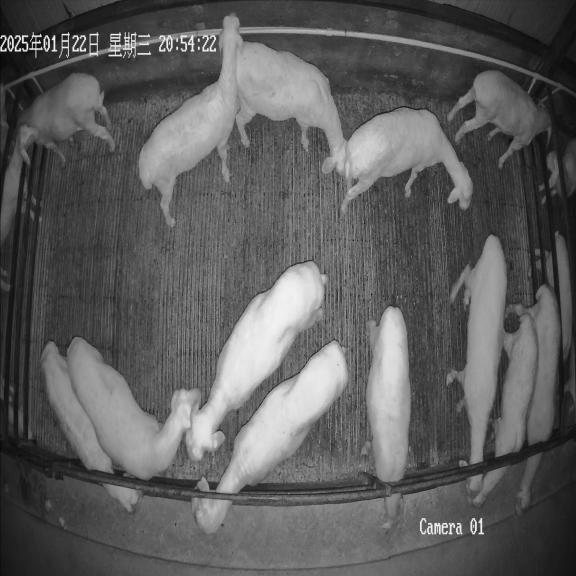drinking: (447, 70, 551, 168)
eating: (191, 341, 348, 533), (41, 342, 141, 512), (446, 235, 507, 506), (473, 304, 538, 505), (506, 284, 562, 514), (361, 306, 411, 530)
stand: (186, 261, 328, 461), (138, 14, 242, 227), (67, 337, 201, 479), (236, 36, 346, 174), (342, 107, 473, 211), (17, 73, 115, 163)
